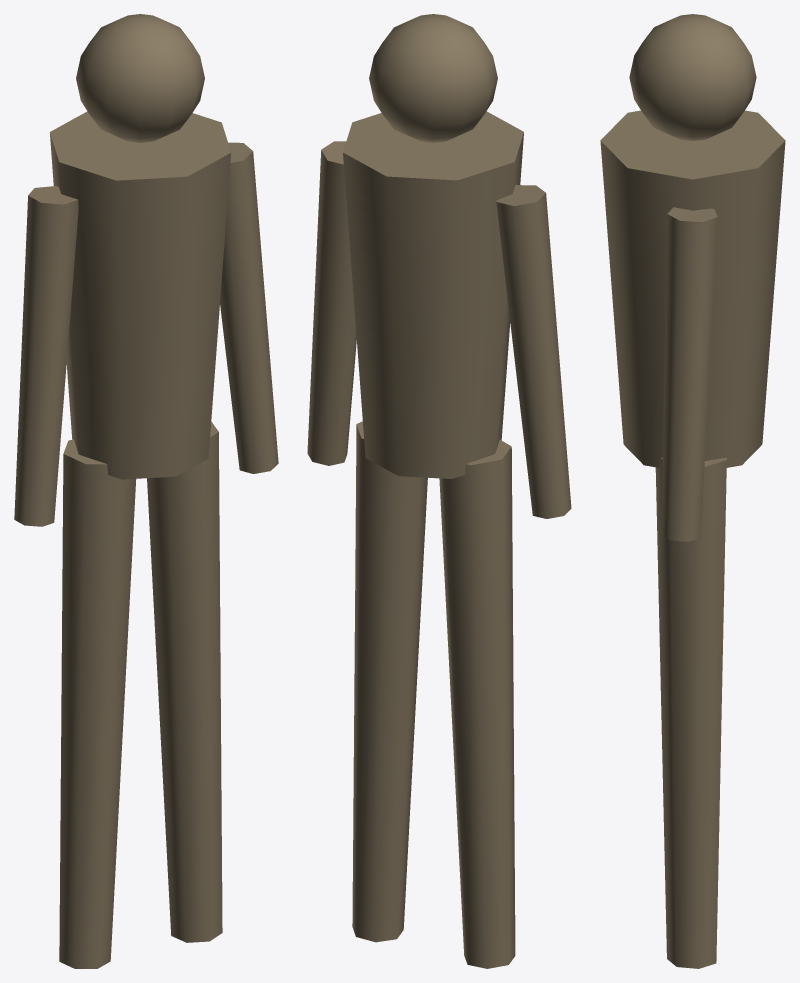
File: scale-reference-1.8m.gltf
The picture shows the model from 3 angles, left to right: view 1: azimuth 30°, elevation 25°; view 2: azimuth 150°, elevation 25°; view 3: azimuth 270°, elevation 25°; orthographic projection.
Visible parts, largest first — view 1: scale-reference-1.8m; view 2: scale-reference-1.8m; view 3: scale-reference-1.8m.
Boxes of the visible parts, <box> form: scale-reference-1.8m: <box>14,14,278,968</box>; scale-reference-1.8m: <box>307,14,571,968</box>; scale-reference-1.8m: <box>600,14,785,968</box>.
Size of the model in its own units: 0.5053 by 1.74 by 0.32.
